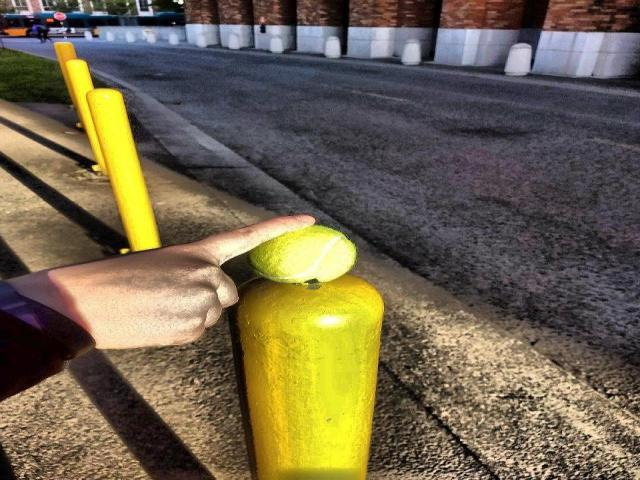tennis-ball: (248, 224, 357, 286)
